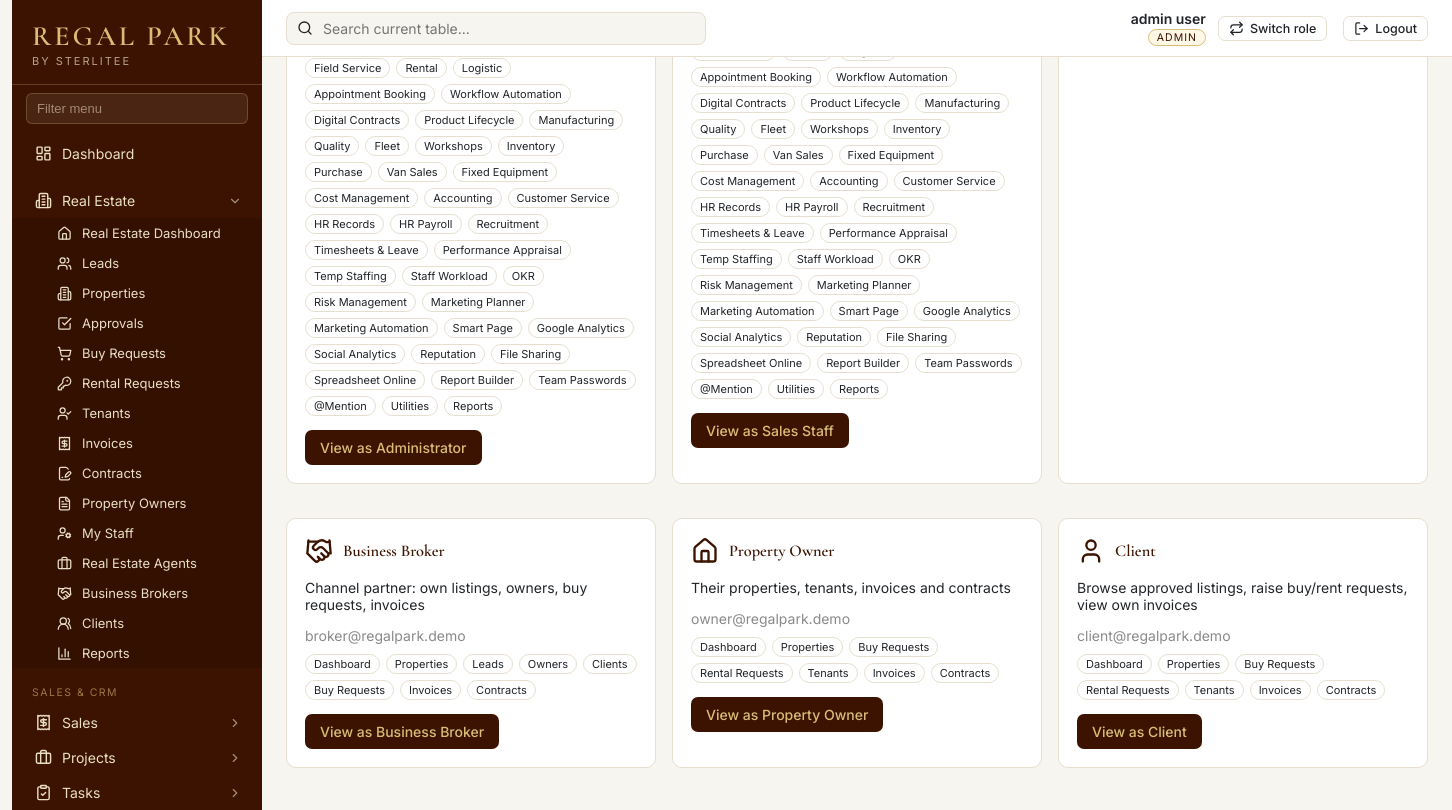
Test: Role switch ("View as <Role>") › admin -> "View as Client": POST /auth/logout then /auth/login (client demo creds), new token stored, lands on "/" with client sidebar
The image size is (1452, 810).
(page scrolled)
expect the button "Logout" is shown: met, box x1=1343 y1=16 x2=1428 y2=40
Click the button "View as Client": (1139, 732) x1=1077 y1=714 x2=1202 y2=749
(page scrolled)
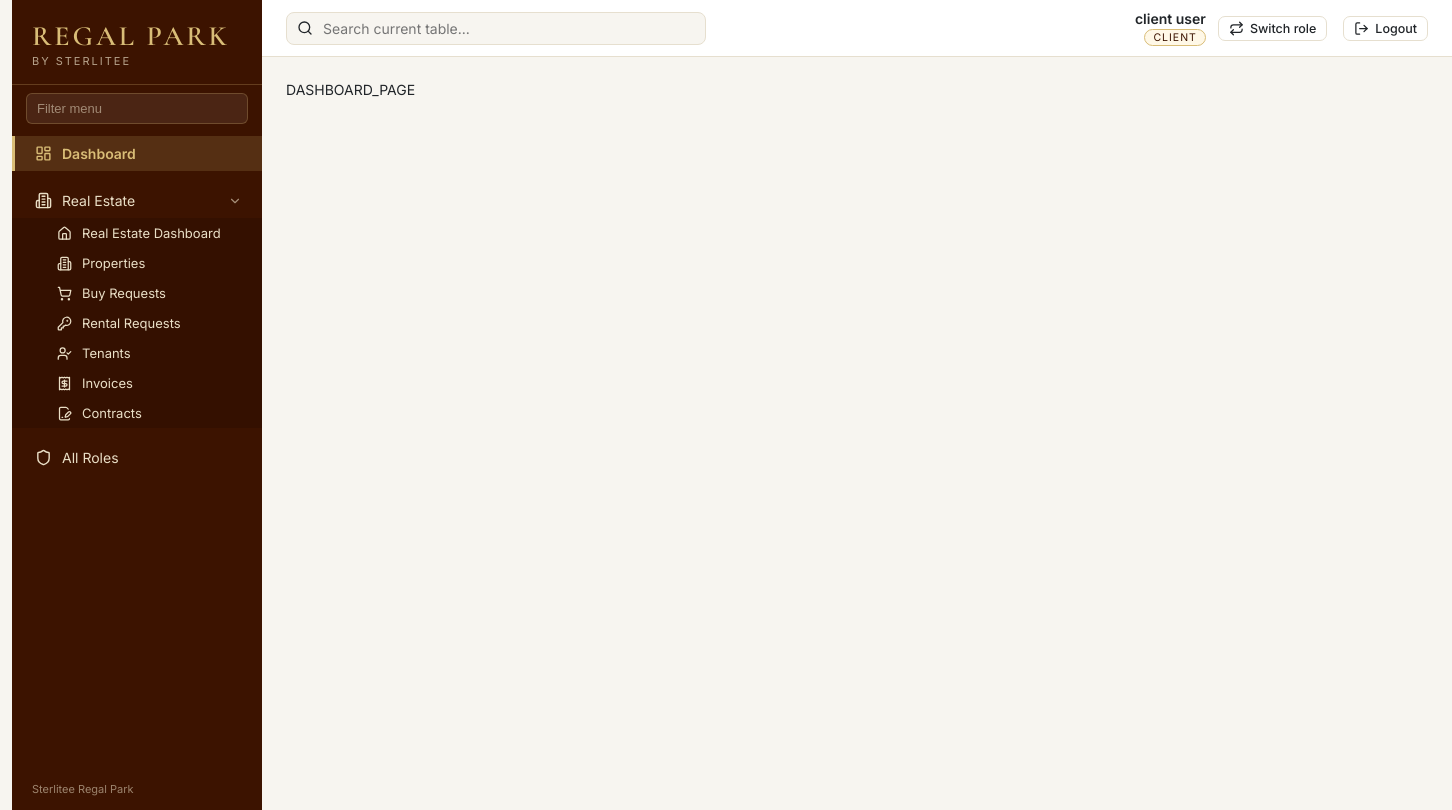
expect the text "DASHBOARD_PAGE" is shown: met, box x1=286 y1=81 x2=415 y2=98
expect the text with class "role-badge" reads "client": met, box x1=1153 y1=31 x2=1197 y2=44
